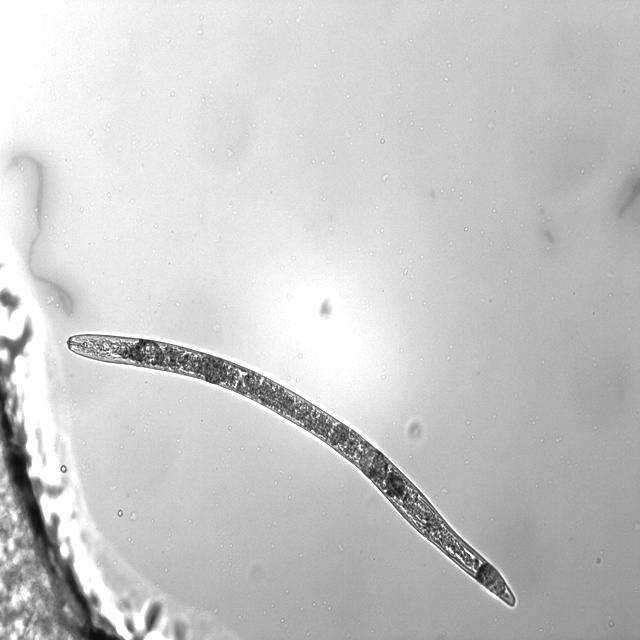Pratylenchus: (60, 333, 520, 618)
